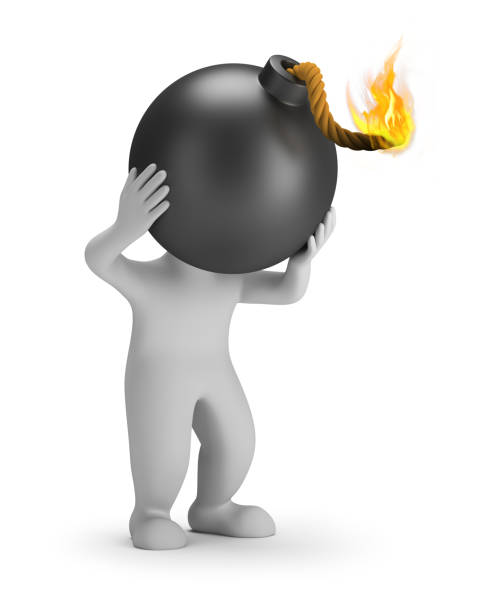e1: (123, 54, 336, 282)
